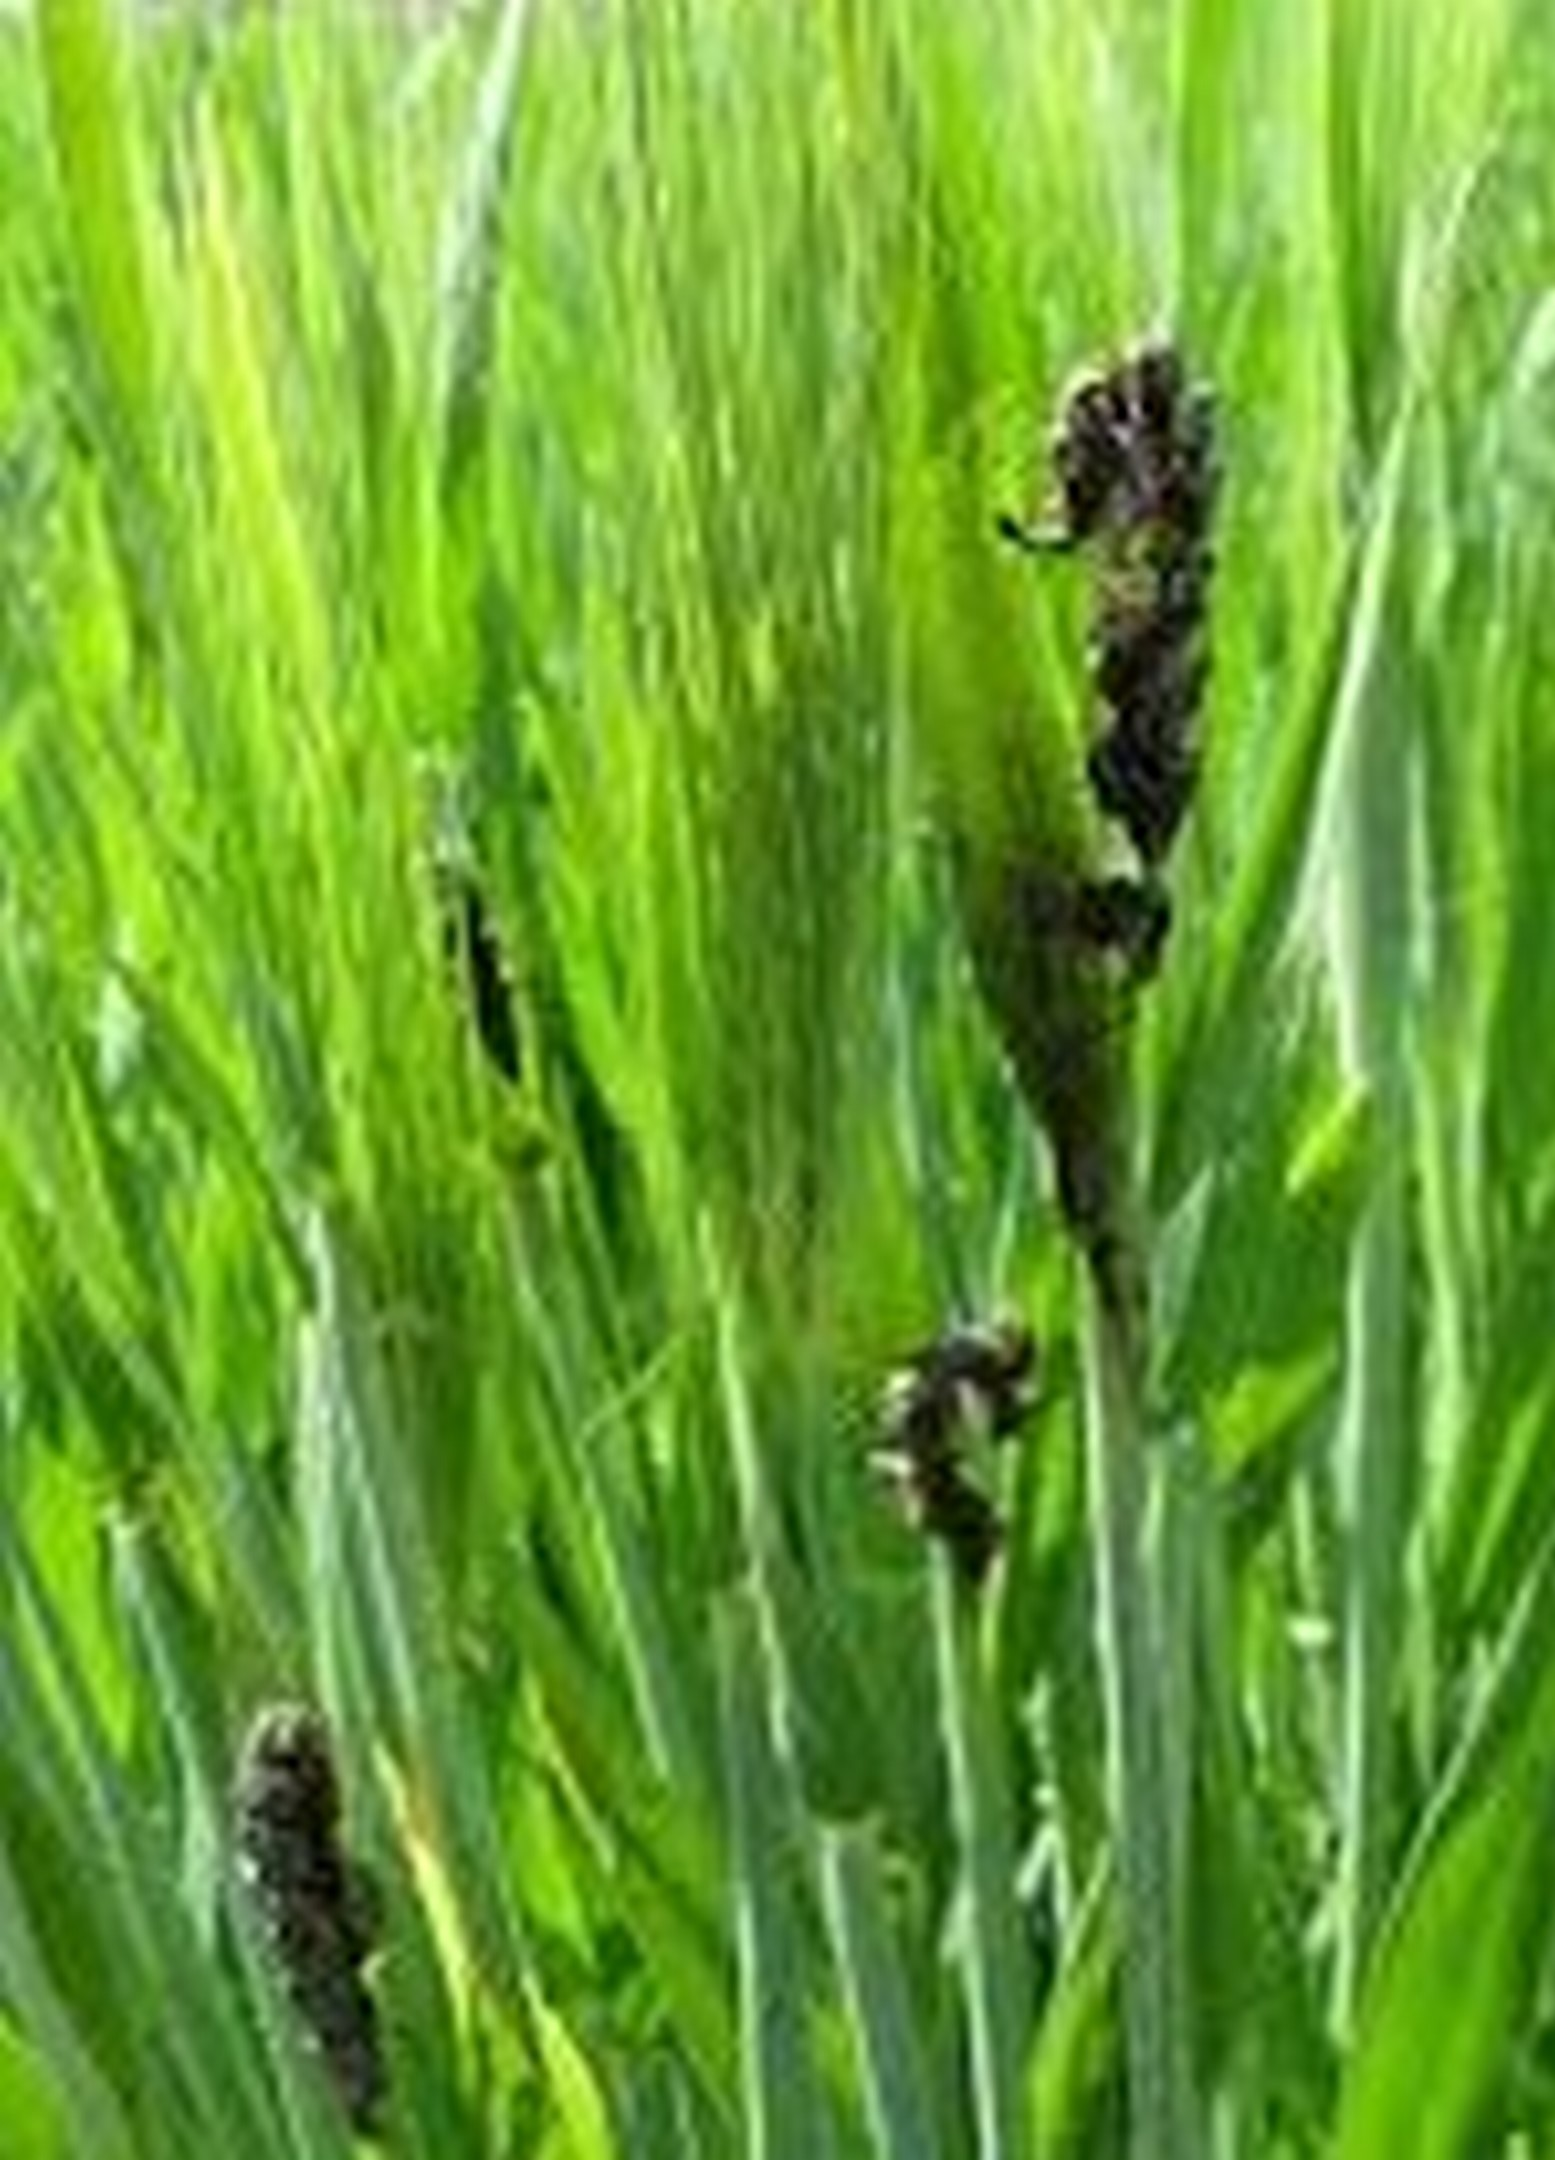Wheat Loose Smut: (970, 305, 1266, 926), (200, 1680, 453, 2091)
